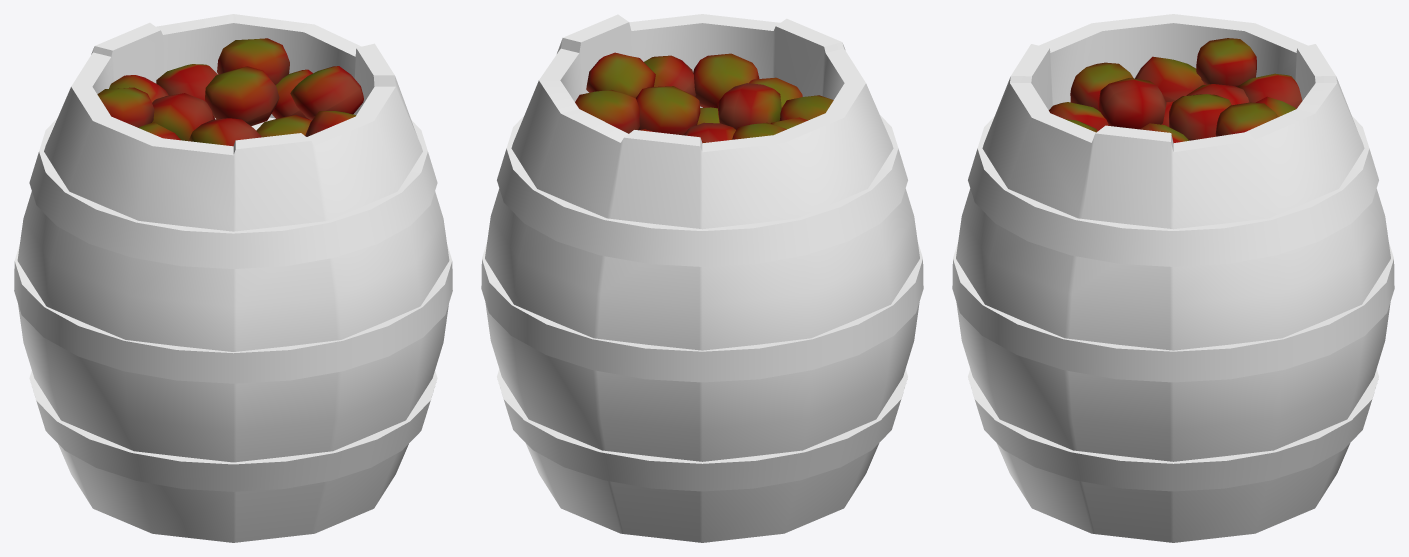
The model's file is apple_barrel.glb.
3 renders of one model, left to right at view 1: azimuth 30°, elevation 25°; view 2: azimuth 150°, elevation 25°; view 3: azimuth 270°, elevation 25°, orthographic.
Visible parts, largest first — view 1: Barrel_Apples; view 2: Barrel_Apples; view 3: Barrel_Apples.
Boxes of the visible parts, x1,y1,x2,y2 form: Barrel_Apples: (14,14,452,542); Barrel_Apples: (481,14,923,542); Barrel_Apples: (952,14,1394,542).
Bounding box in the file's own units: 1 × 1 × 1.
